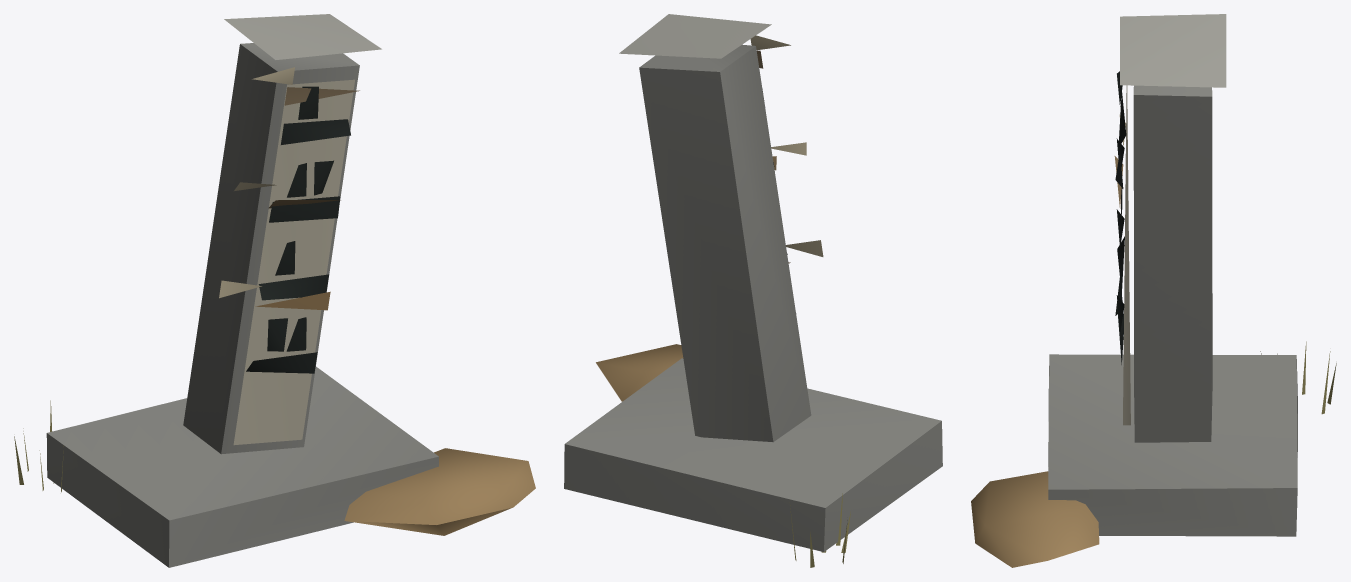
File: flood_staff_b_lod2.glb
3 renders of one model, left to right at view 1: azimuth 30°, elevation 25°; view 2: azimuth 150°, elevation 25°; view 3: azimuth 270°, elevation 25°, orthographic. The views are drawn at different scales.
Visible parts, largest first — view 1: Surface.001; view 2: Surface.001; view 3: Surface.001.
Boxes of the visible parts, bbox=[...] form: Surface.001: bbox=[14, 14, 535, 567]; Surface.001: bbox=[564, 14, 942, 567]; Surface.001: bbox=[971, 14, 1336, 567].
Size of the model in its own units: 2.23 by 2.52 by 1.79.
